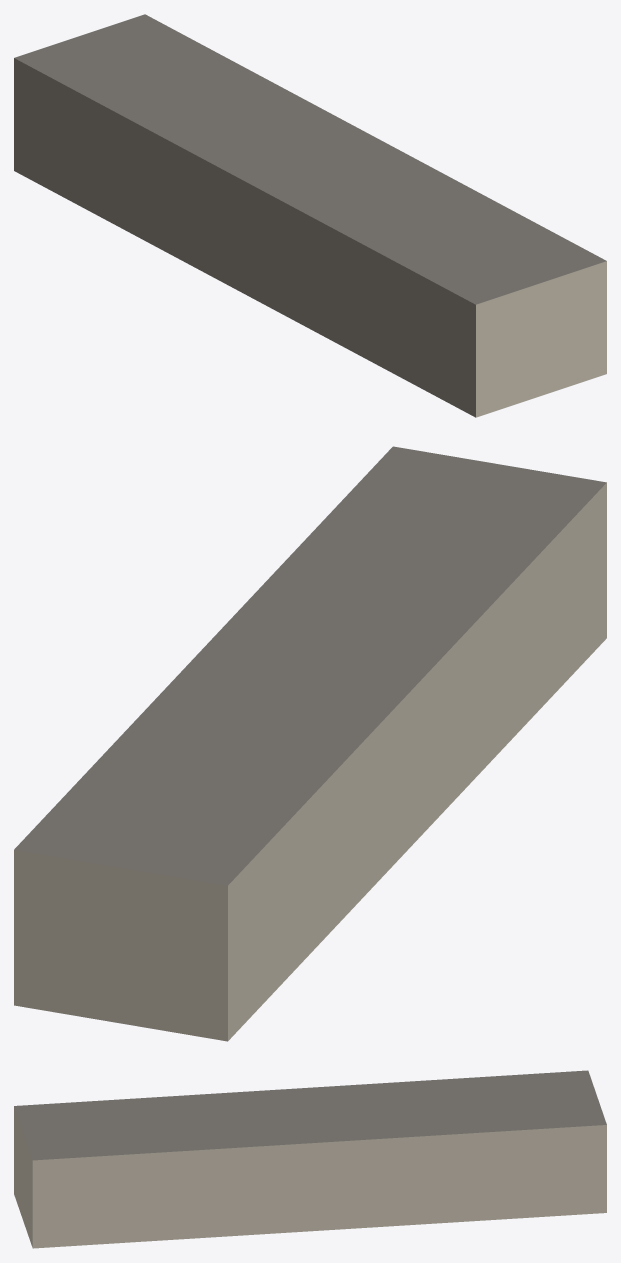
3 views of the same model, one above another, from view 1: azimuth 30°, elevation 25°; view 2: azimuth 150°, elevation 25°; view 3: azimuth 270°, elevation 25° (orthographic). The views are drawn at different scales.
Visible parts, largest first — view 1: HP-w389701922; view 2: HP-w389701922; view 3: HP-w389701922.
Part boxes in pixels (x1,y1,x2,y2): HP-w389701922: (14, 14, 606, 417); HP-w389701922: (14, 446, 606, 1041); HP-w389701922: (14, 1070, 606, 1248).
Bounding box in the file's own units: 26.31 × 12 × 73.23.
